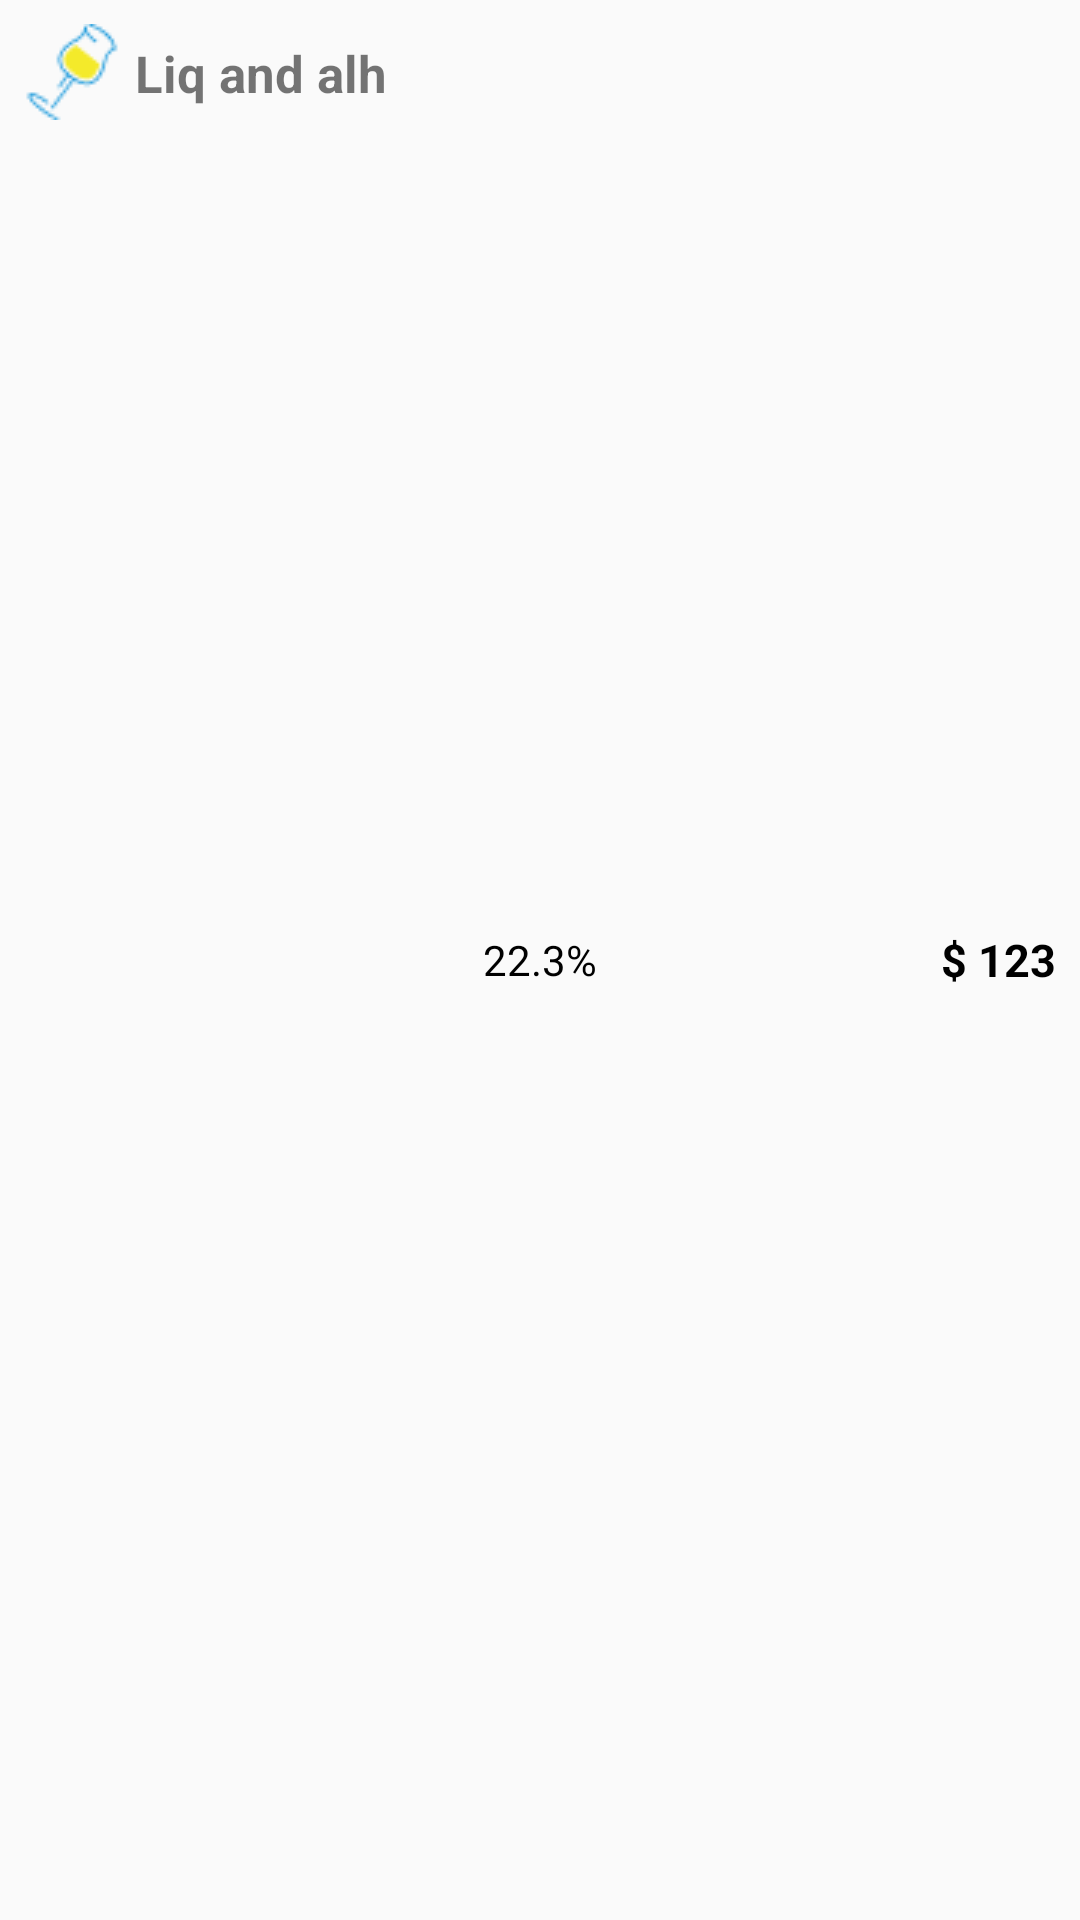

Where icons sit on this 1080x1920 app screen, as box=[x1, y1, x2, y2]:
alchol activate: box=[26, 24, 118, 120]
